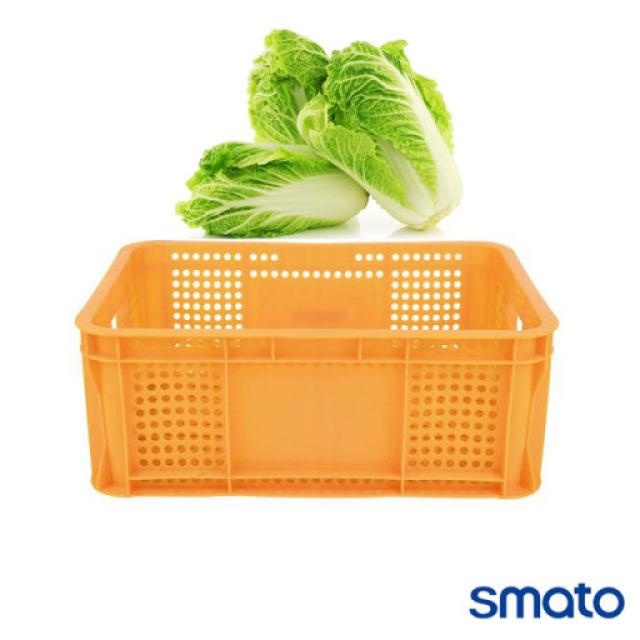basket: (76, 242, 559, 498)
